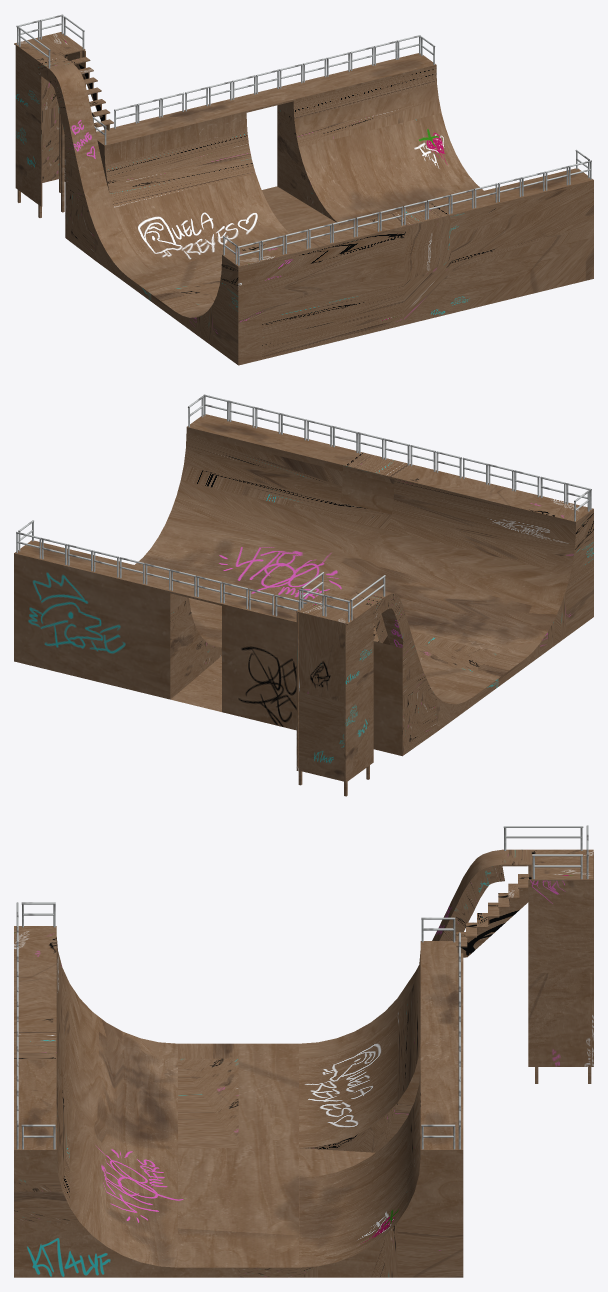
File: skate_park.glb
3 views of the same model, one above another, from view 1: azimuth 30°, elevation 25°; view 2: azimuth 150°, elevation 25°; view 3: azimuth 270°, elevation 25° (orthographic). The views are drawn at different scales.
Parts seen in each view (by area): view 1: pCube25, pCylinder153; view 2: pCube25, pCylinder153; view 3: pCube25, pCylinder153.
Part boxes in pixels (<box>): pCube25: <box>14,32,593,365</box>; pCylinder153: <box>16,14,591,265</box>; pCube25: <box>14,414,593,796</box>; pCylinder153: <box>16,394,591,622</box>; pCube25: <box>14,849,593,1277</box>; pCylinder153: <box>16,825,588,1149</box>.
Size of the model in its own units: 45.79 by 21.91 by 50.11.
Materials: 2 (2 with a texture image).
